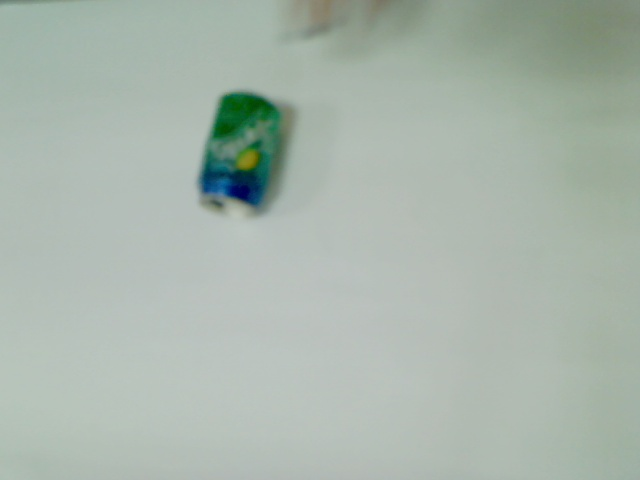can: (194, 89, 283, 217)
